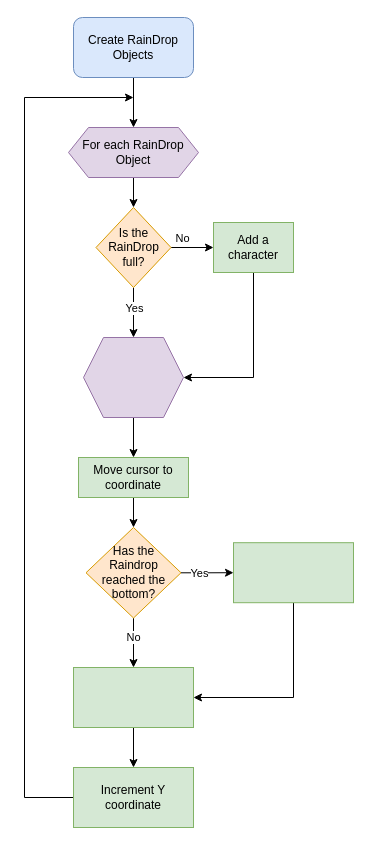
The diagram is 371 pixels wide and 845 high, and some of its shapes have lost their labels. Each missing label, with the centre of its shape:
"For each character in the RainDrop" belongs at (133,377).
"Pop a character" belongs at (293,572).
"Print character" belongs at (133,697).
